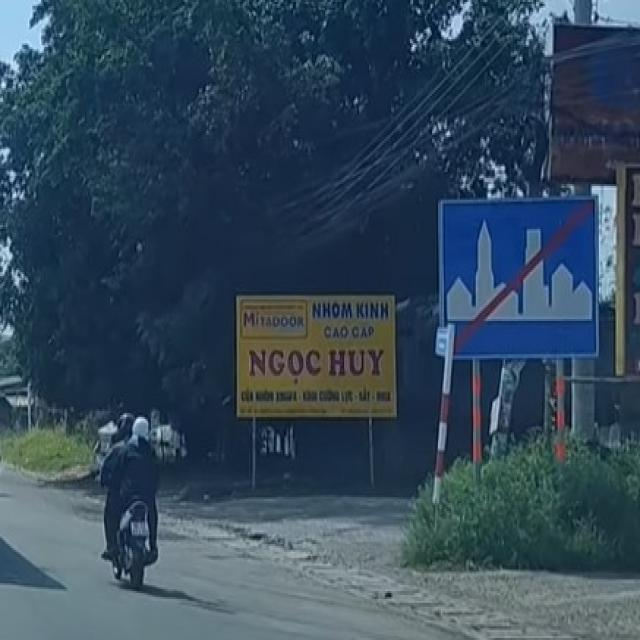Bien hieu lenh het khu dong dan cu: (434, 196, 608, 364)
